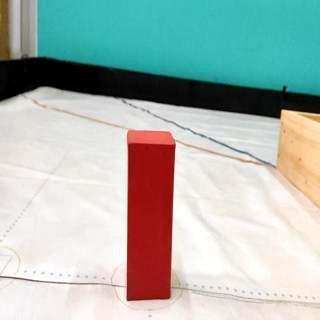redbox: (126, 128, 176, 302)
